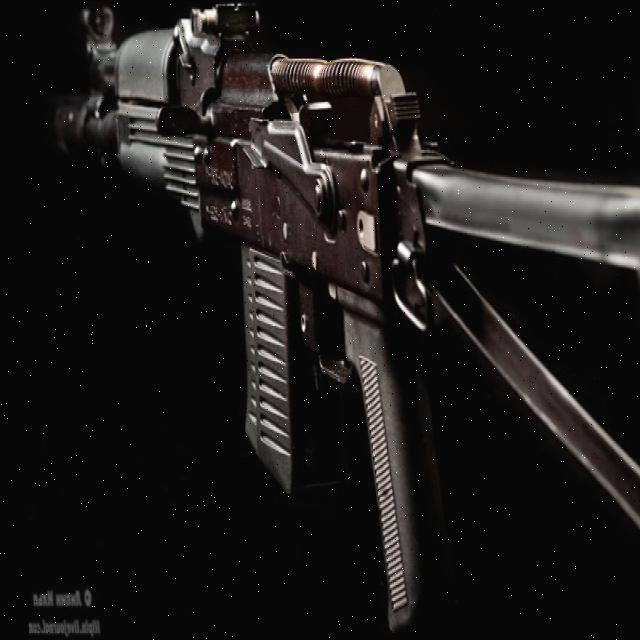firearm: (48, 0, 640, 624)
